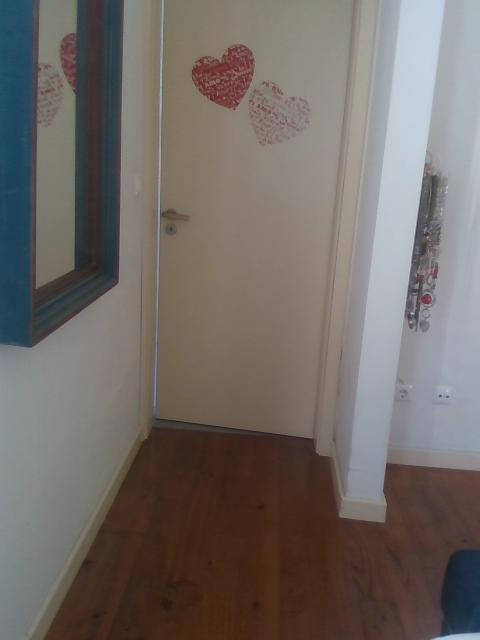door: (153, 1, 351, 438)
